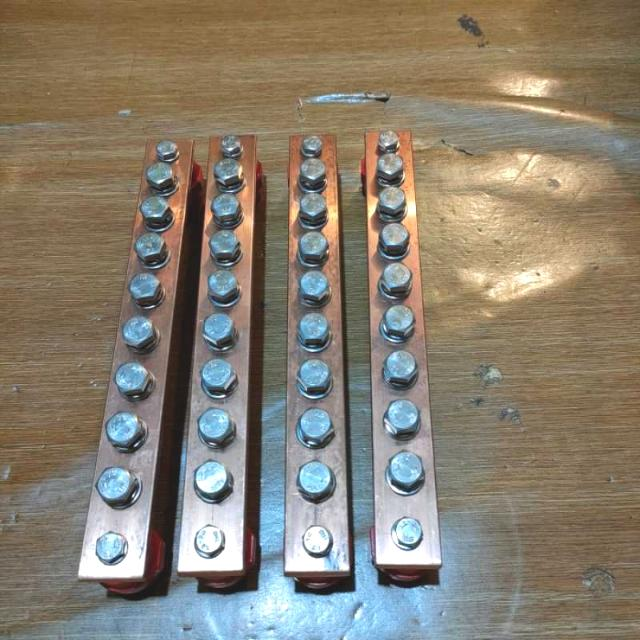busbar: (78, 127, 443, 598)
